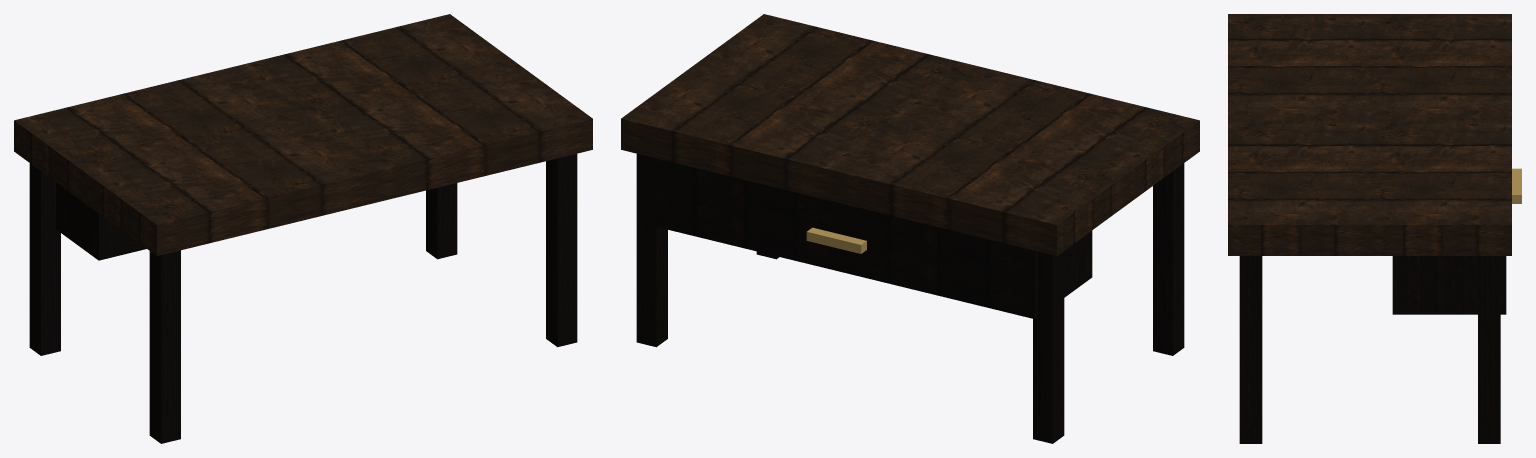
The picture shows the model from 3 angles, left to right: view 1: azimuth 30°, elevation 25°; view 2: azimuth 150°, elevation 25°; view 3: azimuth 270°, elevation 25°; orthographic projection.
Parts seen in each view (by area): view 1: fixture-A-desk; view 2: fixture-A-desk; view 3: fixture-A-desk.
Boxes of the visible parts, bbox=[...] form: fixture-A-desk: bbox=[14, 14, 592, 443]; fixture-A-desk: bbox=[621, 14, 1199, 443]; fixture-A-desk: bbox=[1228, 14, 1521, 443].
Bounding box in the file's own units: 1.76 × 0.87 × 1.03.
Materials: 3 (2 with a texture image).
